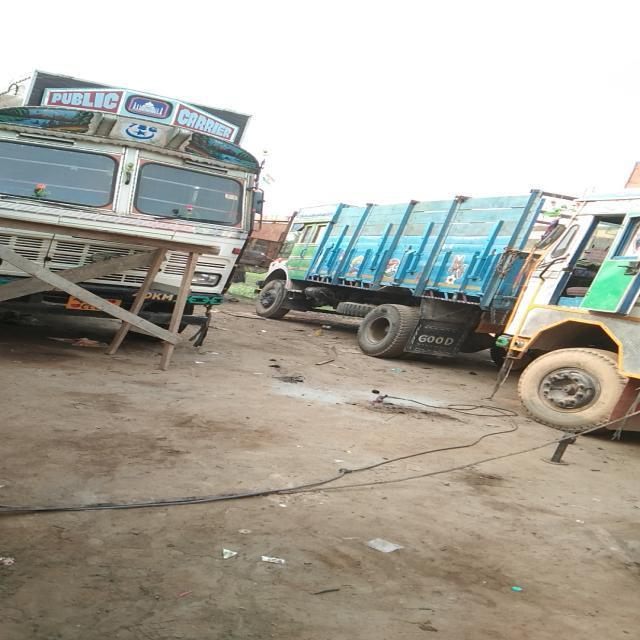truck_front: (312, 160, 640, 443), (0, 63, 269, 352)
